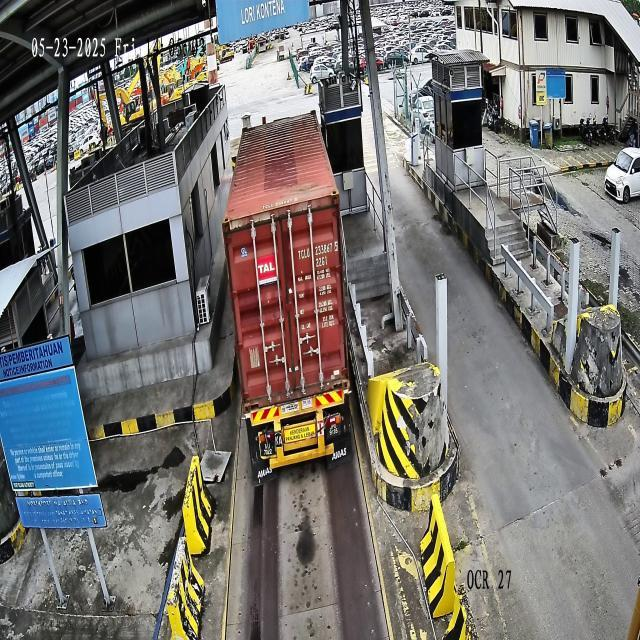ISO: (316, 256, 328, 266)
container_number: (298, 240, 340, 260)
